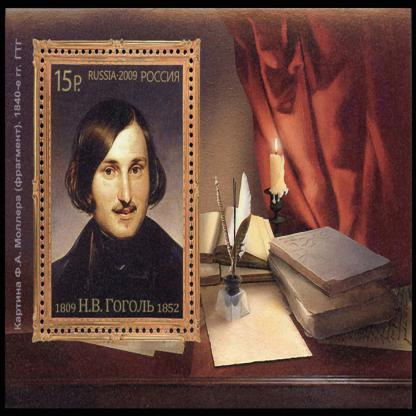Picture-frame: (33, 37, 203, 346)
